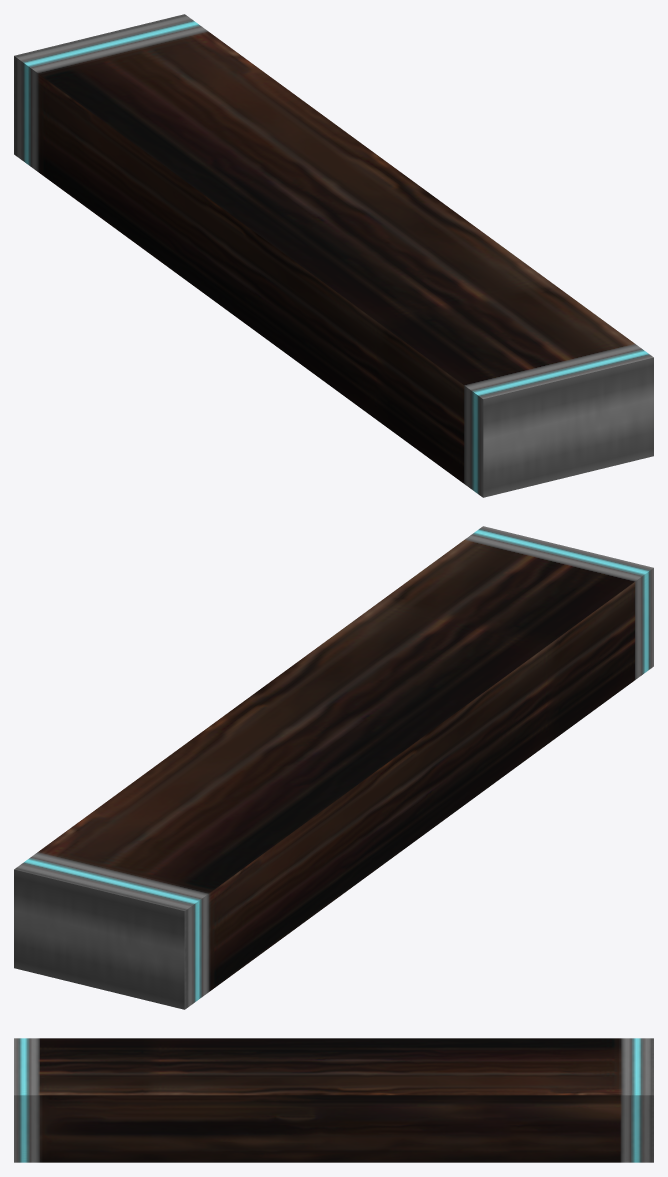
The model's file is BlockChain_Step_Art.fbx.
The picture shows the model from 3 angles, top to bottom: view 1: azimuth 30°, elevation 25°; view 2: azimuth 150°, elevation 25°; view 3: azimuth 270°, elevation 25°; orthographic projection. The views are drawn at different scales.
Parts seen in each view (by area): view 1: BlockChain_Step_Art; view 2: BlockChain_Step_Art; view 3: BlockChain_Step_Art.
Boxes of the visible parts, x1,y1,x2,y2 form: BlockChain_Step_Art: (14,14,653,497); BlockChain_Step_Art: (14,526,653,1009); BlockChain_Step_Art: (14,1038,653,1162).
Size of the model in its own units: 54.37 by 30 by 259.
